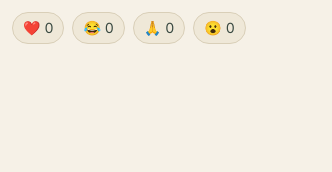
Test: MemoryReactions › rolls back the optimistic count and shows an error if addReaction fails
This screenshot has width=332, height=172.
Step 1. Click the button named "Wow reaction (0)" → {"x": 220, "y": 28}, box [193,12,246,44]
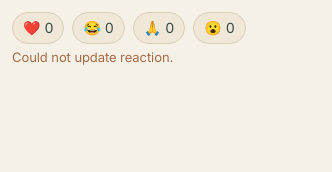
Now the message shows "Could not update reaction", box [12,49,173,65]
